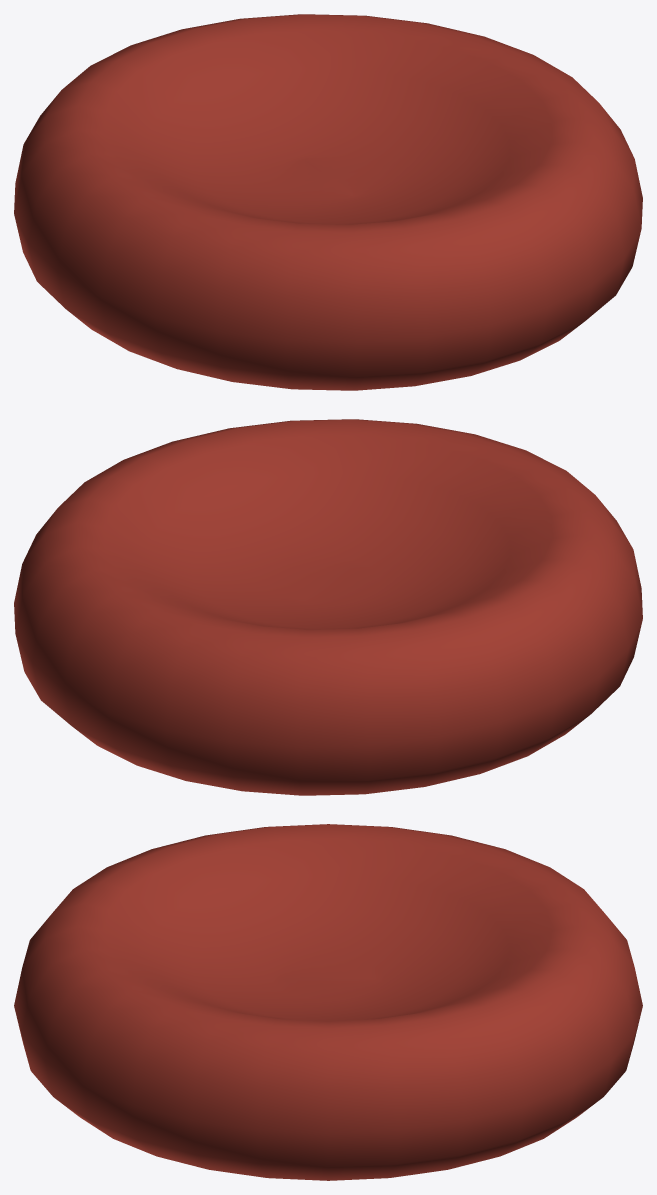
The model's file is Blood_Cell.fbx.
The picture shows the model from 3 angles, top to bottom: view 1: azimuth 30°, elevation 25°; view 2: azimuth 150°, elevation 25°; view 3: azimuth 270°, elevation 25°; orthographic projection. The views are drawn at different scales.
Parts seen in each view (by area): view 1: Torus; view 2: Torus; view 3: Torus.
Boxes of the visible parts, x1,y1,x2,y2 form: Torus: (14, 14, 642, 390); Torus: (14, 419, 642, 795); Torus: (14, 824, 642, 1180).
Bounding box in the file's own units: 247 × 65.4 × 257.
